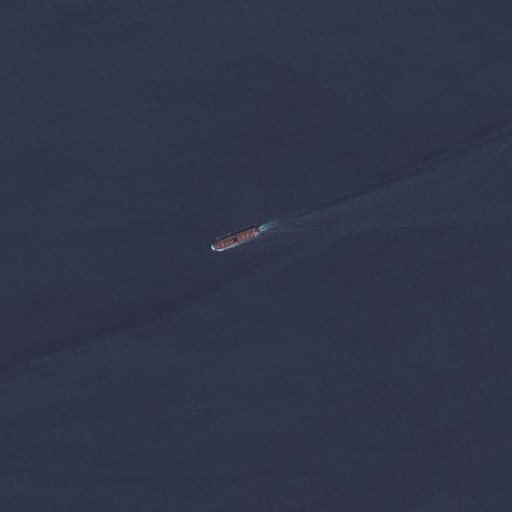ship: (207, 223, 263, 254)
